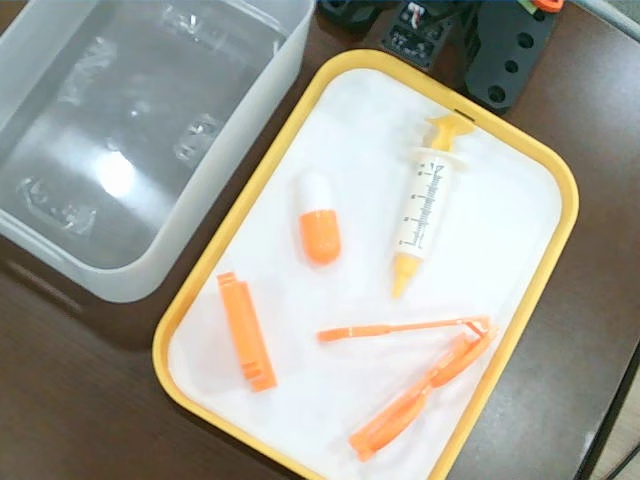pill: (293, 166, 342, 267)
syringe: (367, 113, 475, 299)
